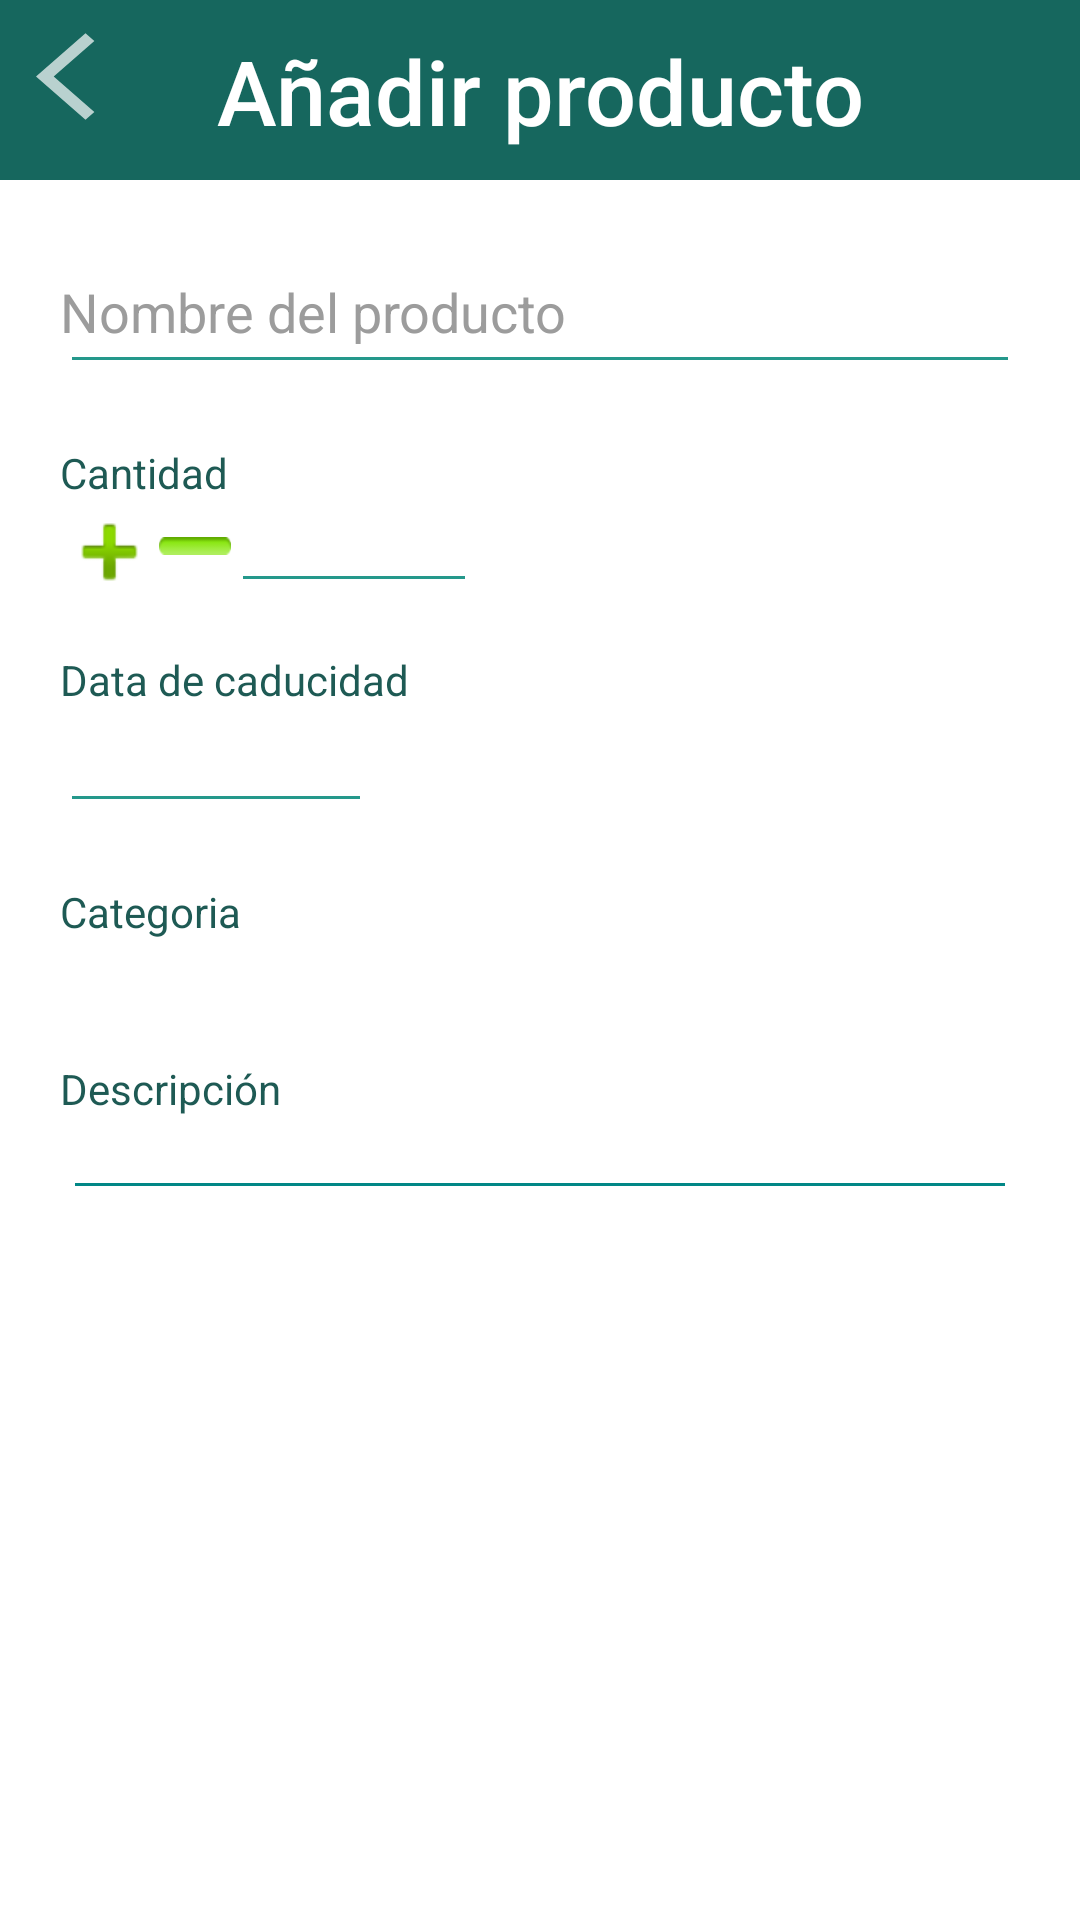

Screen size 1080px×1920px. Icon name, then its center in pixels as [x,y]:
add: [109,552]
arrow back: [65,76]
